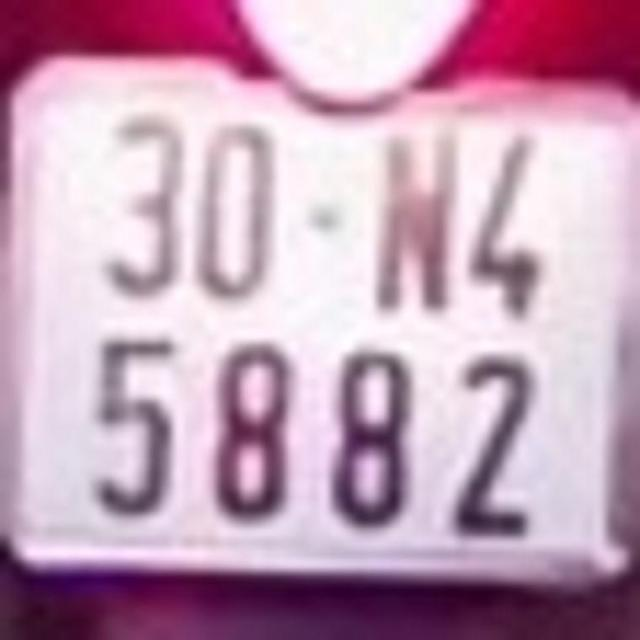0: (194, 108, 273, 302)
2: (458, 340, 529, 546)
3: (109, 102, 184, 306)
4: (469, 130, 544, 319)
5: (94, 326, 177, 524)
8: (214, 326, 295, 526), (336, 332, 408, 530)
N: (376, 124, 461, 322)
